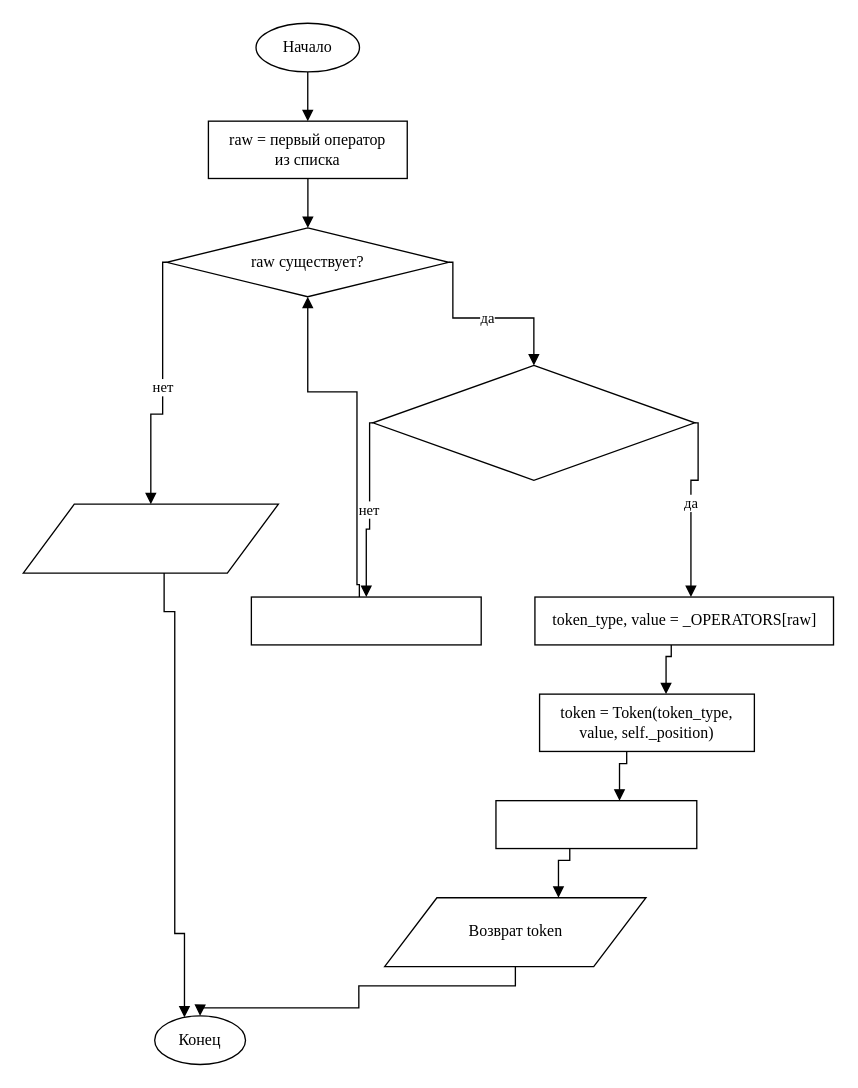
Image size: 858x1088. Some labels were removed from this diagram. Here are the shapes that lost their labels. From the top down, the centre of each, then its label:
At pixel 533 422: "text.startswith(raw, self._position)?".
At pixel 150 538: "Возврат None".
At pixel 365 620: "raw = следующий оператор".
At pixel 596 824: "self._position += len(raw)".
